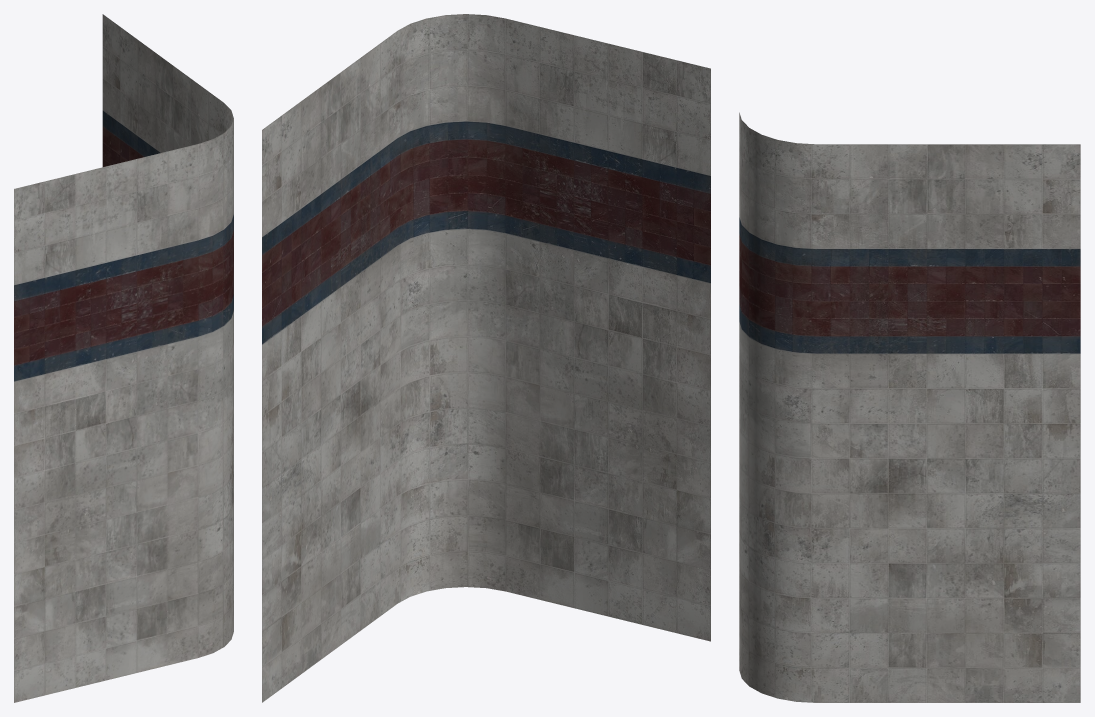
File: SM_Wall_Corner_100u.glb
The picture shows the model from 3 angles, left to right: view 1: azimuth 30°, elevation 25°; view 2: azimuth 150°, elevation 25°; view 3: azimuth 270°, elevation 25°; orthographic projection. The views are drawn at different scales.
Parts seen in each view (by area): view 1: SM_Wall_Corner_100u; view 2: SM_Wall_Corner_100u; view 3: SM_Wall_Corner_100u.
Boxes of the visible parts, <box> form: SM_Wall_Corner_100u: <box>14,14,233,702</box>; SM_Wall_Corner_100u: <box>262,14,710,702</box>; SM_Wall_Corner_100u: <box>739,112,1080,702</box>.
Size of the model in its own units: 1.3 by 2.6 by 1.44.
1 material, 1 textured.
